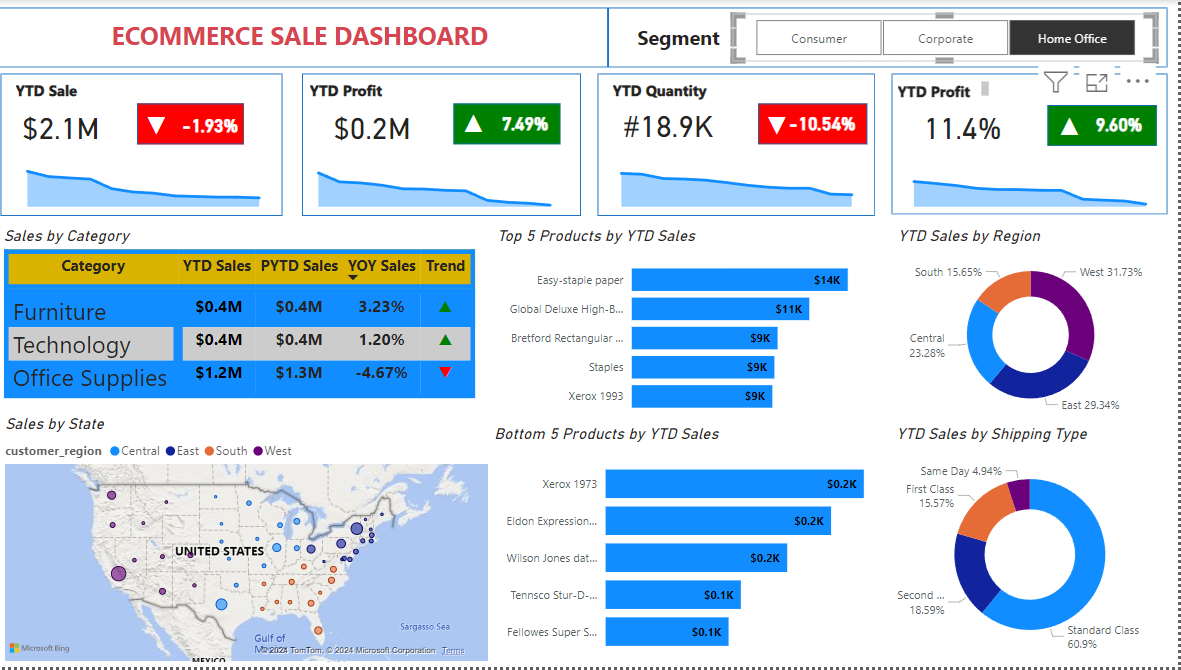

Layout of this report page (visuals, bound fields, positions):
{"tool":"powerbi","page":{"name":"Page 1","canvas":[1280,720],"ordinal":0},"visuals":[{"type":"shape","box":[652.5,79.3,299.6,153.8],"z":0},{"type":"shape","box":[138.8,107.3,159.8,35.8],"z":1000},{"type":"shape","box":[8.1,79.3,304.4,153.8],"z":2000},{"type":"shape","box":[333.6,79.3,301.2,153.8],"z":3000},{"type":"shape","box":[826.5,111.5,117.8,44.2],"z":4000},{"type":"shape","box":[496.3,111.5,115.7,44.2],"z":5000},{"type":"shape","box":[969.9,79.3,297.9,152.2],"z":6000},{"type":"shape","box":[663.9,8.1,604,64.8],"z":6500},{"type":"shape","box":[155.6,111.5,115.7,44.2],"z":7000},{"type":"shape","box":[1137.7,113.6,117.8,44.2],"z":8000},{"type":"slicer","fields":{"Values":["ecommerce_data.customer_segment"]},"box":[798.3,14.6,458.2,51.8],"z":9000},{"type":"card","fields":{"Values":["ecommerce_data.YTD Sales"]},"box":[20,113.3,118.3,43.3],"z":10000},{"type":"card","fields":{"Values":["ecommerce_data.YTD Profit Margin"]},"box":[992.6,113.6,107,44.2],"z":11000},{"type":"card","fields":{"Values":["ecommerce_data.Profit Margin Icon"]},"box":[1137.7,111.5,46.3,48.4],"z":12000},{"type":"areaChart","fields":{"Category":["Calendar.Month"],"Y":["Sum(ecommerce_data.sales_per_order)"]},"box":[22.7,165.2,278.5,63.1],"z":13000},{"type":"card","fields":{"Values":["ecommerce_data.YTD profit"]},"box":[354.6,113.3,108.5,45.3],"z":14000},{"type":"card","fields":{"Values":["ecommerce_data.YOY Qty"]},"box":[841.2,111.5,105.1,44.2],"z":15000},{"type":"card","fields":{"Values":["ecommerce_data.YOY Profit"]},"box":[536.3,111.5,75.7,44.2],"z":16000},{"type":"card","fields":{"Values":["ecommerce_data.YTD Concate Qty"]},"box":[671.7,111.7,130,45],"z":17000},{"type":"card","fields":{"Values":["ecommerce_data.Sales icon"]},"box":[157.7,109.4,37.9,50.5],"z":18000},{"type":"card","fields":{"Values":["ecommerce_data.Qty Icon"]},"box":[826.5,111.5,40,46.3],"z":19000},{"type":"card","fields":{"Values":["ecommerce_data.YOY ProfitMargin"]},"box":[1173.5,111.5,82,46.3],"z":20000},{"type":"card","fields":{"Values":["ecommerce_data.YOY Sales"]},"box":[195.6,113.6,75.7,44.2],"z":21000},{"type":"areaChart","fields":{"Category":["Calendar.Month"],"Y":["Sum(ecommerce_data.profit_per_order)"]},"box":[336.8,165.2,278.5,63.1],"z":22000},{"type":"areaChart","fields":{"Category":["Calendar.Month"],"Y":["Sum(ecommerce_data.order_quantity)"]},"box":[663.9,165.2,276.9,63.1],"z":23000},{"type":"areaChart","fields":{"Category":["Calendar.Month"],"Y":["ecommerce_data.Profit Margin"]},"box":[979.6,165.2,278.5,63.1],"z":24000},{"type":"pivotTable","title":"Sales by Category","fields":{"Rows":["ecommerce_data.category_name"],"Values":["ecommerce_data.YTD Sales","ecommerce_data.PYTD Sales","ecommerce_data.YOY Sales","ecommerce_data.Sales icon"]},"box":[6.5,244.5,547.3,202.4],"z":25000},{"type":"card","fields":{"Values":["ecommerce_data.Profit Icon"]},"box":[496.3,109.4,42.1,46.3],"z":26000},{"type":"barChart","title":"Top 5 Products by YTD Sales ","fields":{"Category":["ecommerce_data.product_name"],"Y":["ecommerce_data.YTD Sales"]},"box":[539.2,244.5,430.7,213.7],"z":27000},{"type":"barChart","title":"Bottom 5 Products by YTD Sales ","fields":{"Category":["ecommerce_data.product_name"],"Y":["ecommerce_data.YTD Sales"]},"box":[536,458.2,446.9,260.7],"z":28000},{"type":"donutChart","title":"YTD Sales by Region","fields":{"Y":["ecommerce_data.YTD Sales"],"Category":["ecommerce_data.customer_region"]},"box":[971.5,244.5,296.3,213.7],"z":29000},{"type":"donutChart","title":"YTD Sales by Shipping Type","fields":{"Category":["ecommerce_data.shipping_type"],"Y":["ecommerce_data.YTD Sales"]},"box":[969.9,458.2,297.9,260.7],"z":30000},{"type":"map","title":"Sales by State","fields":{"Series":["ecommerce_data.customer_region"],"Y":["us_state_long_lat_codes.latitude"],"X":["us_state_long_lat_codes.longitude"],"Size":["ecommerce_data.YTD Sales"]},"box":[8.1,446.9,531.1,272],"z":31000},{"type":"shape","box":[6.5,8.1,657.4,64.8],"z":32500},{"type":"textbox","box":[19.4,81,93.9,34],"z":33000},{"type":"textbox","box":[337.5,81.4,103.5,33.9],"z":34000},{"type":"textbox","box":[663.9,81,121.4,34],"z":35000},{"type":"textbox","box":[971.5,82.6,108.5,35.6],"z":36000},{"type":"textbox","box":[678.5,19.4,123.1,43.7],"z":38000},{"type":"textbox","box":[22.7,14.6,616.9,51.8],"z":40000}]}

Visuals, with their boxes in screenshot pixels (x1, y1, x2, y2), scaled from the page's 1280x720 canvas onto the 1181x670 screenshot:
shape: (left=602, top=74, right=878, bottom=217)
shape: (left=128, top=100, right=276, bottom=133)
shape: (left=7, top=74, right=288, bottom=217)
shape: (left=308, top=74, right=586, bottom=217)
shape: (left=763, top=104, right=871, bottom=145)
shape: (left=458, top=104, right=565, bottom=145)
shape: (left=895, top=74, right=1170, bottom=215)
shape: (left=613, top=8, right=1170, bottom=68)
shape: (left=144, top=104, right=250, bottom=145)
shape: (left=1050, top=106, right=1158, bottom=147)
slicer - ecommerce_data.customer_segment: (left=737, top=14, right=1159, bottom=62)
card - ecommerce_data.YTD Sales: (left=18, top=105, right=128, bottom=146)
card - ecommerce_data.YTD Profit Margin: (left=916, top=106, right=1015, bottom=147)
card - ecommerce_data.Profit Margin Icon: (left=1050, top=104, right=1092, bottom=149)
areaChart - Calendar.Month x Sum(ecommerce_data.sales_per_order): (left=21, top=154, right=278, bottom=212)
card - ecommerce_data.YTD profit: (left=327, top=105, right=427, bottom=148)
card - ecommerce_data.YOY Qty: (left=776, top=104, right=873, bottom=145)
card - ecommerce_data.YOY Profit: (left=495, top=104, right=565, bottom=145)
card - ecommerce_data.YTD Concate Qty: (left=620, top=104, right=740, bottom=146)
card - ecommerce_data.Sales icon: (left=146, top=102, right=180, bottom=149)
card - ecommerce_data.Qty Icon: (left=763, top=104, right=799, bottom=147)
card - ecommerce_data.YOY ProfitMargin: (left=1083, top=104, right=1158, bottom=147)
card - ecommerce_data.YOY Sales: (left=180, top=106, right=250, bottom=147)
areaChart - Calendar.Month x Sum(ecommerce_data.profit_per_order): (left=311, top=154, right=568, bottom=212)
areaChart - Calendar.Month x Sum(ecommerce_data.order_quantity): (left=613, top=154, right=868, bottom=212)
areaChart - Calendar.Month x ecommerce_data.Profit Margin: (left=904, top=154, right=1161, bottom=212)
"Sales by Category" pivotTable: (left=6, top=228, right=511, bottom=416)
card - ecommerce_data.Profit Icon: (left=458, top=102, right=497, bottom=145)
"Top 5 Products by YTD Sales " barChart: (left=497, top=228, right=895, bottom=426)
"Bottom 5 Products by YTD Sales " barChart: (left=495, top=426, right=907, bottom=669)
"YTD Sales by Region" donutChart: (left=896, top=228, right=1170, bottom=426)
"YTD Sales by Shipping Type" donutChart: (left=895, top=426, right=1170, bottom=669)
"Sales by State" map: (left=7, top=416, right=497, bottom=669)
shape: (left=6, top=8, right=613, bottom=68)
textbox: (left=18, top=75, right=105, bottom=107)
textbox: (left=311, top=76, right=407, bottom=107)
textbox: (left=613, top=75, right=725, bottom=107)
textbox: (left=896, top=77, right=996, bottom=110)
textbox: (left=626, top=18, right=740, bottom=59)
textbox: (left=21, top=14, right=590, bottom=62)
